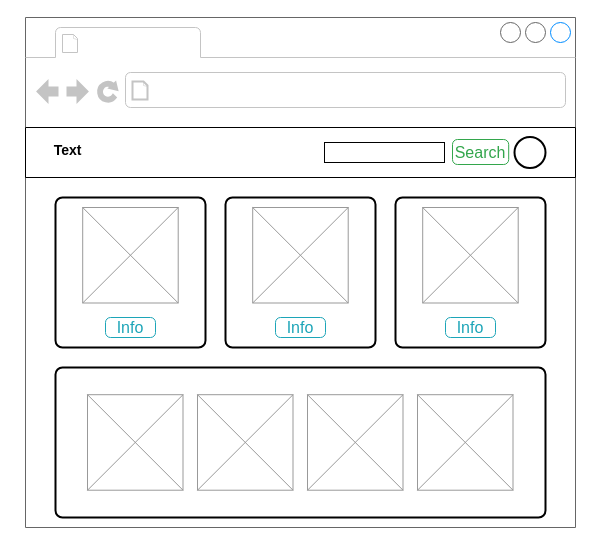
Image size: 593x545. Some labels were removed from this diagram. The centre of each missing label's shape, as x and y in pixels:
"https://www.pos.html" belongs at pixel 280 90.
"Page 1" belongs at pixel 140 42.
